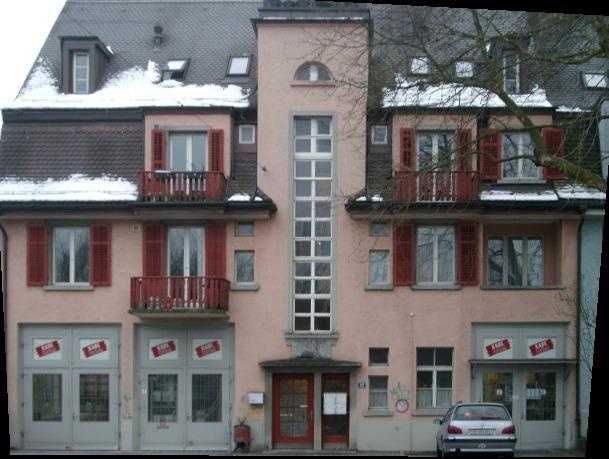window: (292, 117, 335, 337), (166, 224, 207, 310), (487, 234, 546, 287), (416, 130, 457, 203), (168, 132, 209, 198), (51, 225, 91, 287), (416, 224, 455, 284), (417, 347, 454, 410), (502, 129, 543, 180), (69, 49, 90, 95), (504, 49, 522, 95), (295, 64, 335, 82), (369, 375, 389, 411), (235, 251, 255, 286), (370, 250, 390, 285), (229, 56, 248, 76), (235, 219, 255, 238), (370, 348, 389, 367), (369, 220, 390, 237), (371, 125, 388, 145), (411, 57, 429, 74), (457, 60, 473, 79), (240, 126, 255, 145), (586, 74, 607, 87), (164, 61, 188, 70)
